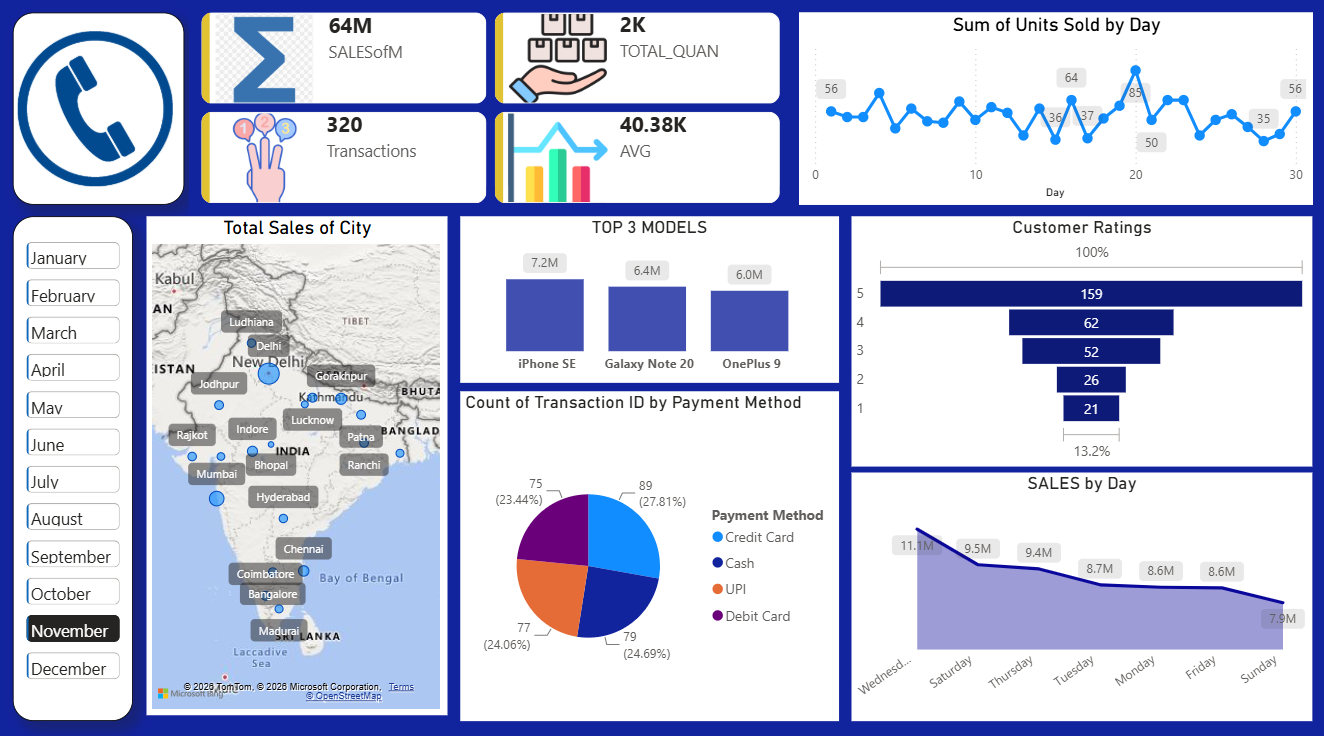

What the dashboard file says about the page in this screenshot:
{"tool":"powerbi","page":{"name":"Interactive Dashboard ","canvas":[1280,720],"ordinal":0},"visuals":[{"type":"shape","box":[13.3,16.9,165.3,185.8],"z":0},{"type":"image","box":[18.1,35,149.6,149.6],"z":1000},{"type":"shape","box":[13.3,213.5,115.8,487.4],"z":2000},{"type":"advancedSlicerVisual","fields":{"Values":["SALESDATA.DATE.Variation.Date Hierarchy.Month"]},"box":[21.7,213.5,100.1,475.3],"z":3000},{"type":"cardVisual","fields":{"Data":["SALESDATA.SALESofM","SALESDATA.TOTAL_QUAN","SALESDATA.Transactions","SALESDATA.AVG"]},"box":[178.6,0,593.6,219.6],"z":4000},{"type":"map","title":"Total Sales of City","fields":{"Category":["SALESDATA.City"],"Size":["SALESDATA.SALESofM"]},"box":[142.4,213.5,289.5,481.4],"z":5000},{"type":"lineChart","fields":{"Category":["SALESDATA.DATE.Variation.Date Hierarchy.Day"],"Y":["Sum(SALESDATA.Units Sold)"]},"box":[772.1,16.9,495.8,185.8],"z":6000},{"type":"clusteredColumnChart","title":"TOP 3 MODELS","fields":{"Category":["SALESDATA.Mobile Model"],"Y":["SALESDATA.SALESofM"]},"box":[445.2,213.5,365.6,160.5],"z":7000},{"type":"pieChart","fields":{"Y":["CountNonNull(SALESDATA.Transaction ID)"],"Category":["SALESDATA.Payment Method"]},"box":[445.2,382.4,365.6,318.5],"z":8000},{"type":"funnel","title":" Customer Ratings ","fields":{"Category":["SALESDATA.Customer Ratings"],"Y":["CountNonNull(SALESDATA.Customer Ratings)"]},"box":[822.8,213.5,445.2,241.3],"z":9000},{"type":"areaChart","title":"SALES by Day","fields":{"Category":["SALESDATA.Day Name"],"Y":["SALESDATA.SALESofM"]},"box":[822.8,460.9,445.2,240.1],"z":10000}]}

Visuals, with their boxes in screenshot pixels (x1, y1, x2, y2), scaled from the page's 1280x720 canvas onto the 1324x736 screenshot:
shape: [left=14, top=17, right=185, bottom=207]
image: [left=19, top=36, right=173, bottom=189]
shape: [left=14, top=218, right=134, bottom=716]
advancedSlicerVisual - SALESDATA.DATE.Variation.Date Hierarchy.Month: [left=22, top=218, right=126, bottom=704]
cardVisual - SALESDATA.SALESofM x SALESDATA.TOTAL_QUAN: [left=185, top=0, right=799, bottom=224]
"Total Sales of City" map: [left=147, top=218, right=447, bottom=710]
lineChart - SALESDATA.DATE.Variation.Date Hierarchy.Day x Sum(SALESDATA.Units Sold): [left=799, top=17, right=1311, bottom=207]
"TOP 3 MODELS" clusteredColumnChart: [left=461, top=218, right=839, bottom=382]
pieChart - CountNonNull(SALESDATA.Transaction ID) x SALESDATA.Payment Method: [left=461, top=391, right=839, bottom=716]
" Customer Ratings " funnel: [left=851, top=218, right=1312, bottom=465]
"SALES by Day" areaChart: [left=851, top=471, right=1312, bottom=717]
